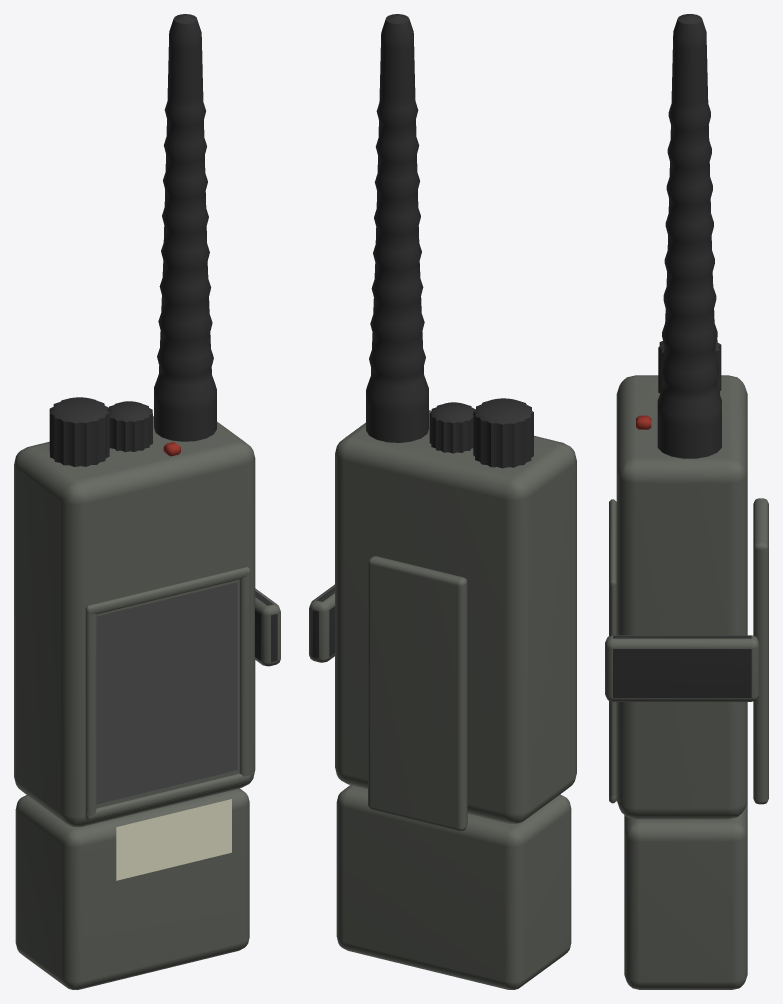
The model's file is walkie.glb.
3 renders of one model, left to right at view 1: azimuth 30°, elevation 25°; view 2: azimuth 150°, elevation 25°; view 3: azimuth 270°, elevation 25°, orthographic. The views are drawn at different scales.
Parts seen in each view (by area): view 1: Walkie; view 2: Walkie; view 3: Walkie.
Part boxes in pixels (x1,y1,x2,y2): Walkie: [14, 14, 280, 989]; Walkie: [309, 14, 576, 989]; Walkie: [605, 14, 768, 989].
Size of the model in its own units: 0.065 by 0.275 by 0.0425.
